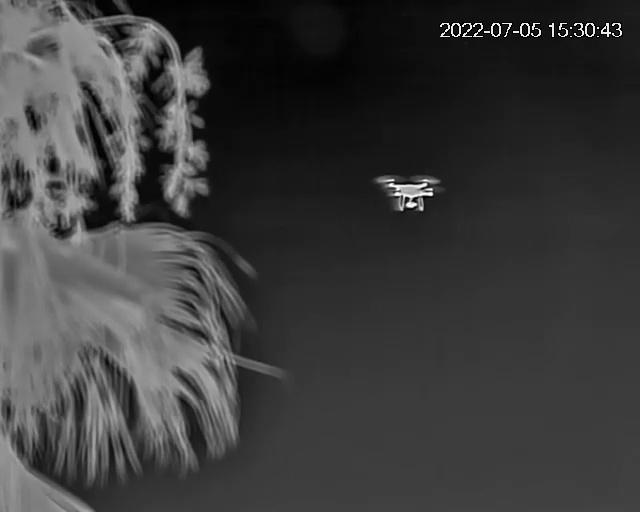DJI-Phantom: (371, 170, 449, 220)
